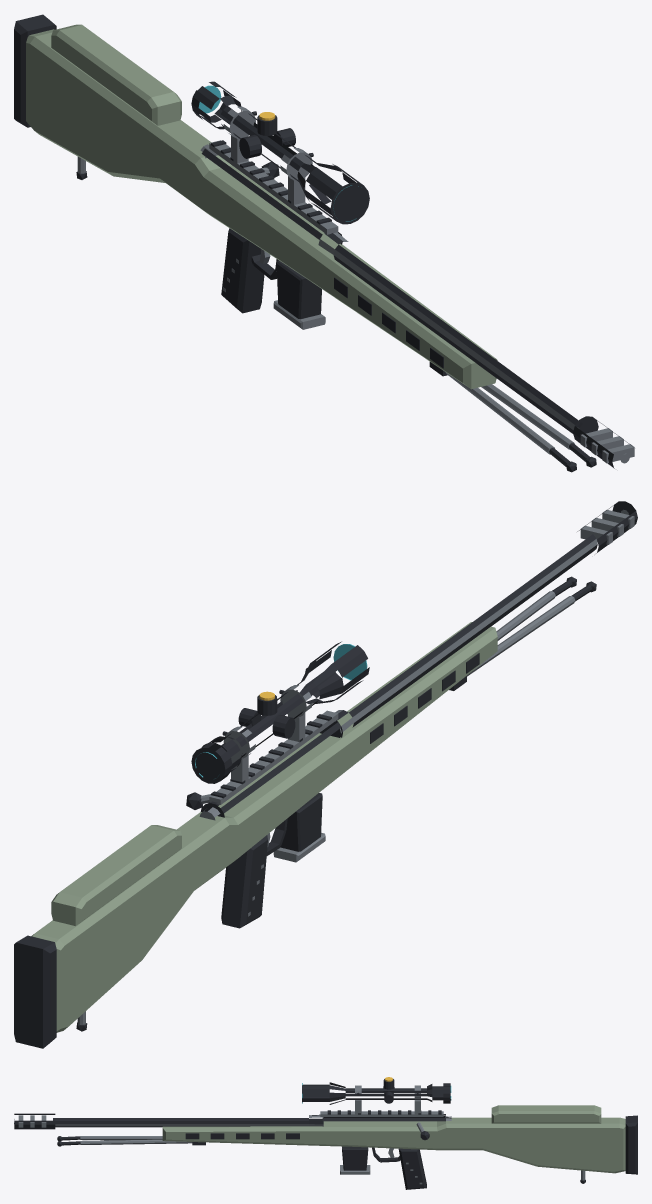
Rendered from sniper_rifle.glb.
3 renders of one model, top to bottom at view 1: azimuth 30°, elevation 25°; view 2: azimuth 150°, elevation 25°; view 3: azimuth 270°, elevation 25°, orthographic. The views are drawn at different scales.
Parts seen in each view (by area): view 1: sniper_rifle_mesh, BIPOD, MAGAZINE; view 2: sniper_rifle_mesh, BIPOD, MAGAZINE; view 3: sniper_rifle_mesh, BIPOD, MAGAZINE.
Part boxes in pixels (x1,y1,x2,y2): sniper_rifle_mesh: [14, 14, 634, 468]; BIPOD: [429, 362, 596, 472]; MAGAZINE: [273, 260, 325, 329]; sniper_rifle_mesh: [14, 501, 637, 1048]; BIPOD: [449, 576, 596, 690]; MAGAZINE: [273, 793, 325, 862]; sniper_rifle_mesh: [14, 1077, 637, 1189]; BIPOD: [57, 1136, 205, 1146]; MAGAZINE: [340, 1146, 370, 1174].
Size of the model in its own units: 0.0903 by 0.263 by 1.37.
Materials: 1 (1 with a texture image).
